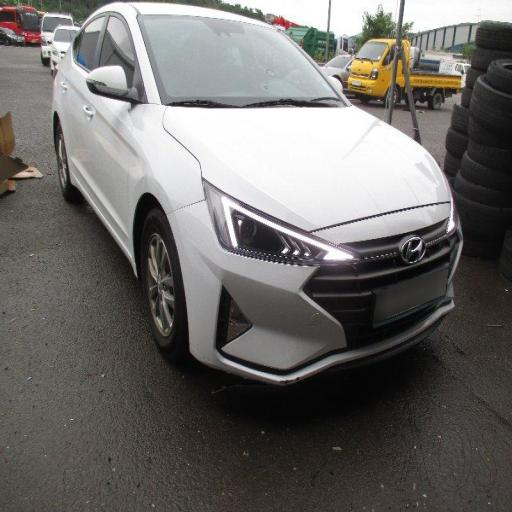dent: (140, 142, 253, 330)
